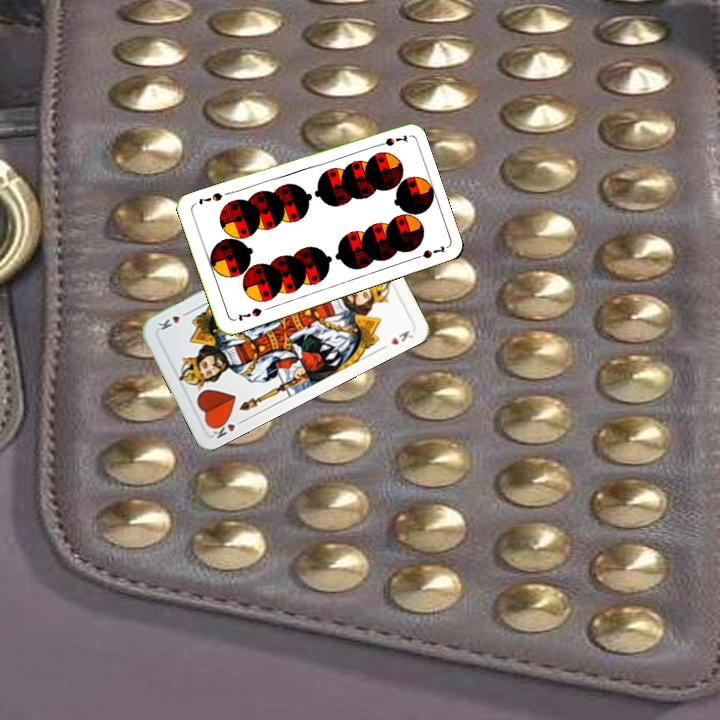HK: (207, 415, 247, 441)
S7: (370, 131, 410, 150), (234, 304, 264, 324)
